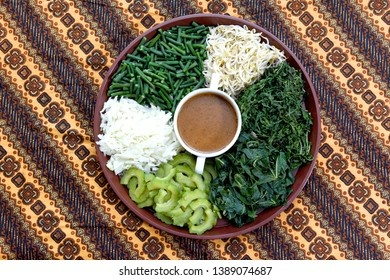pecel: (96, 18, 314, 239)
